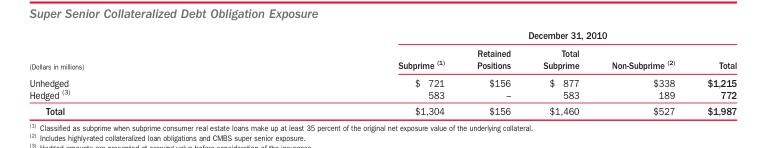table: (28, 29, 736, 116)
table column: (240, 29, 460, 116), (28, 29, 240, 116), (594, 29, 690, 116), (526, 29, 594, 116), (460, 29, 526, 116), (690, 29, 736, 116)
table column header: (28, 29, 736, 73)
table row: (28, 44, 736, 73), (28, 29, 736, 44), (28, 87, 736, 102), (28, 73, 736, 87), (28, 102, 736, 116)
table spanning cell: (28, 29, 240, 73), (240, 29, 736, 44)
